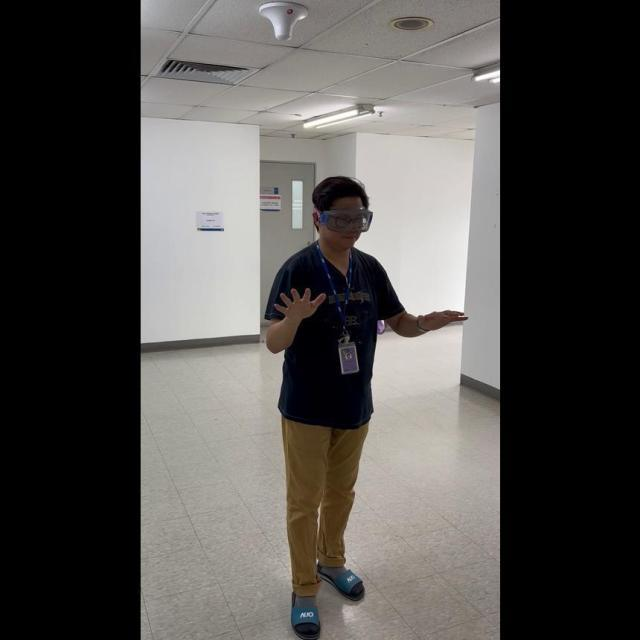bare_hand: (272, 281, 326, 325), (414, 304, 469, 332)
